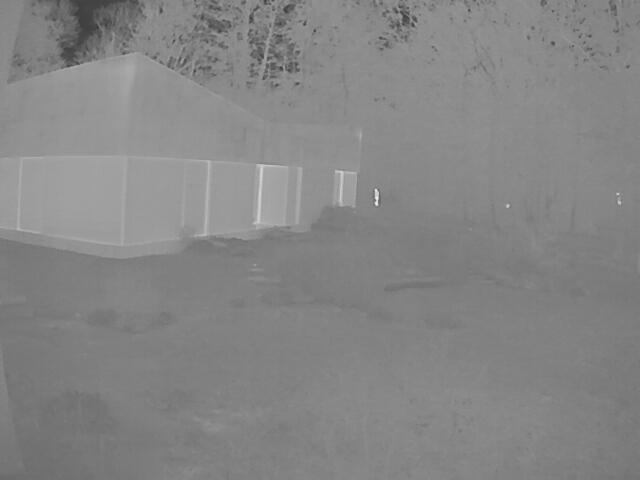person: (370, 186, 378, 205)
